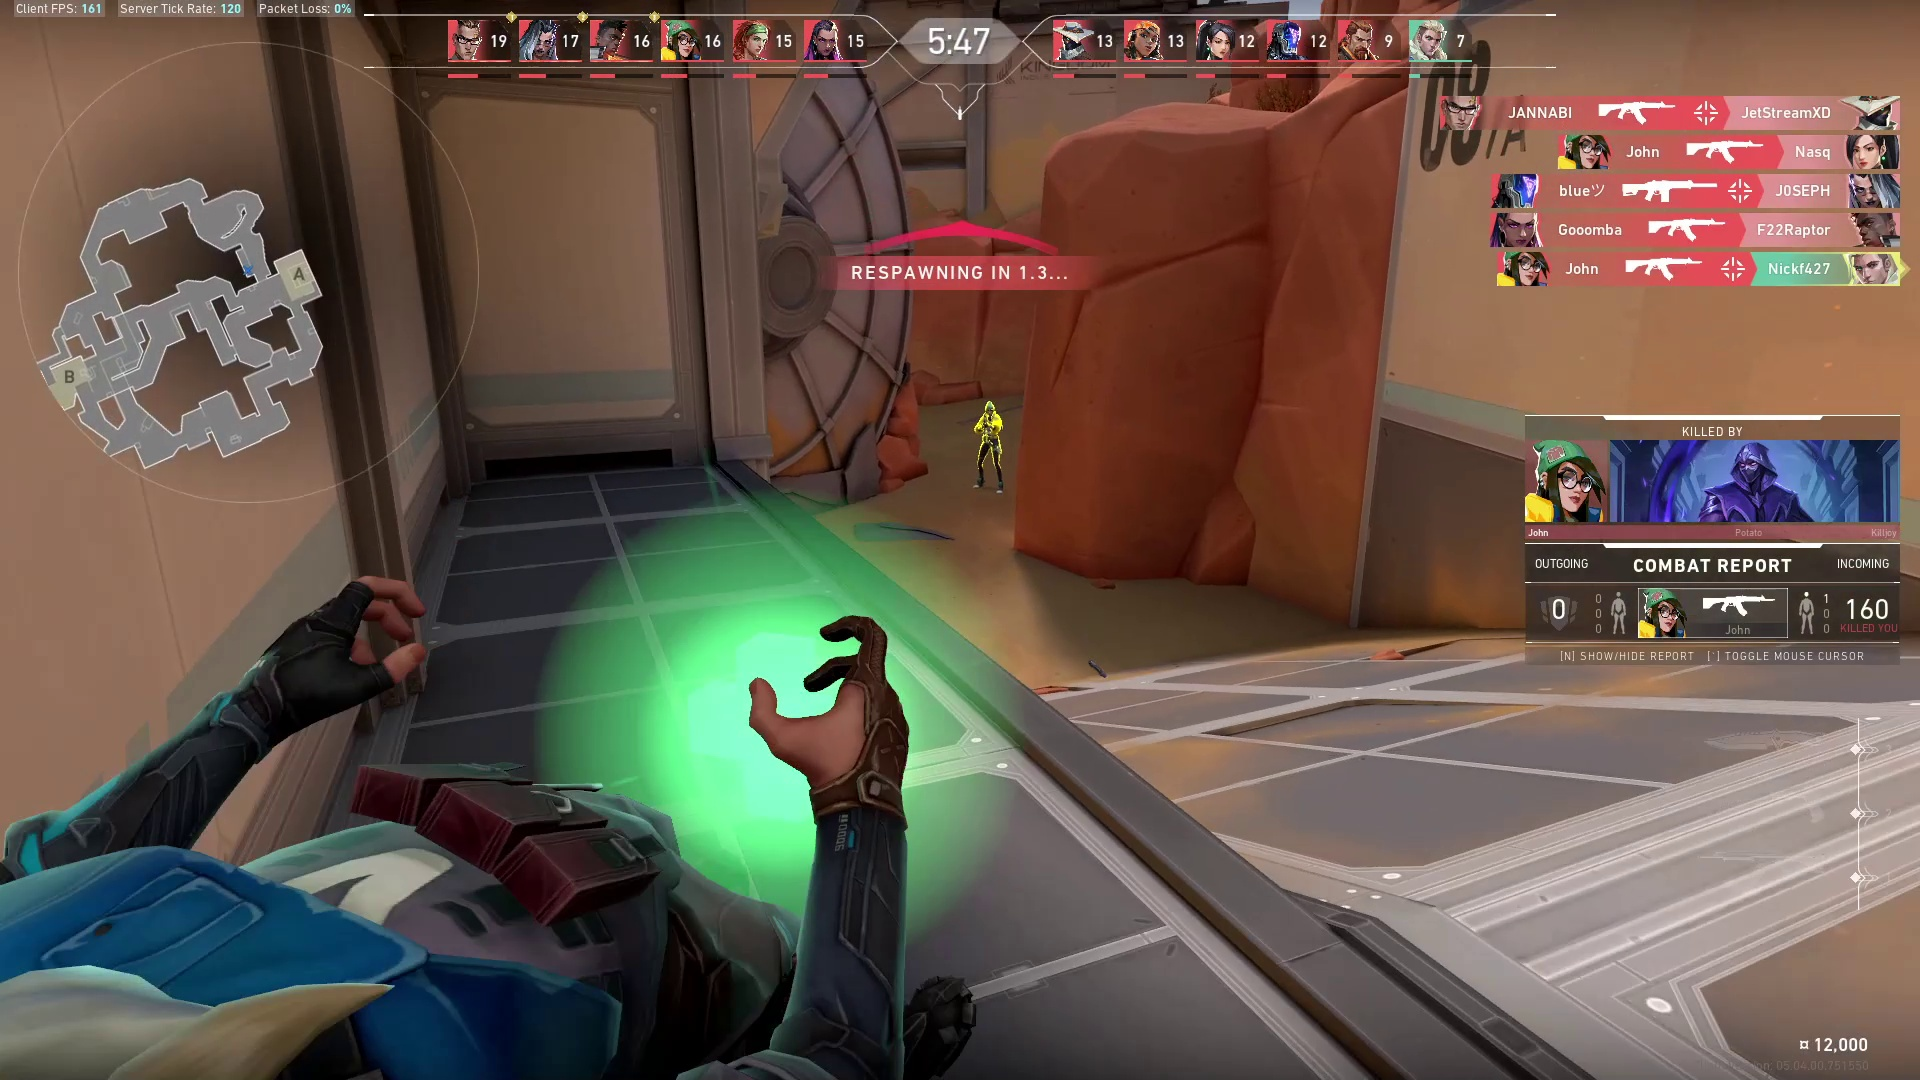enemy_body: (975, 416, 1008, 498)
enemy_head: (983, 398, 997, 417)
